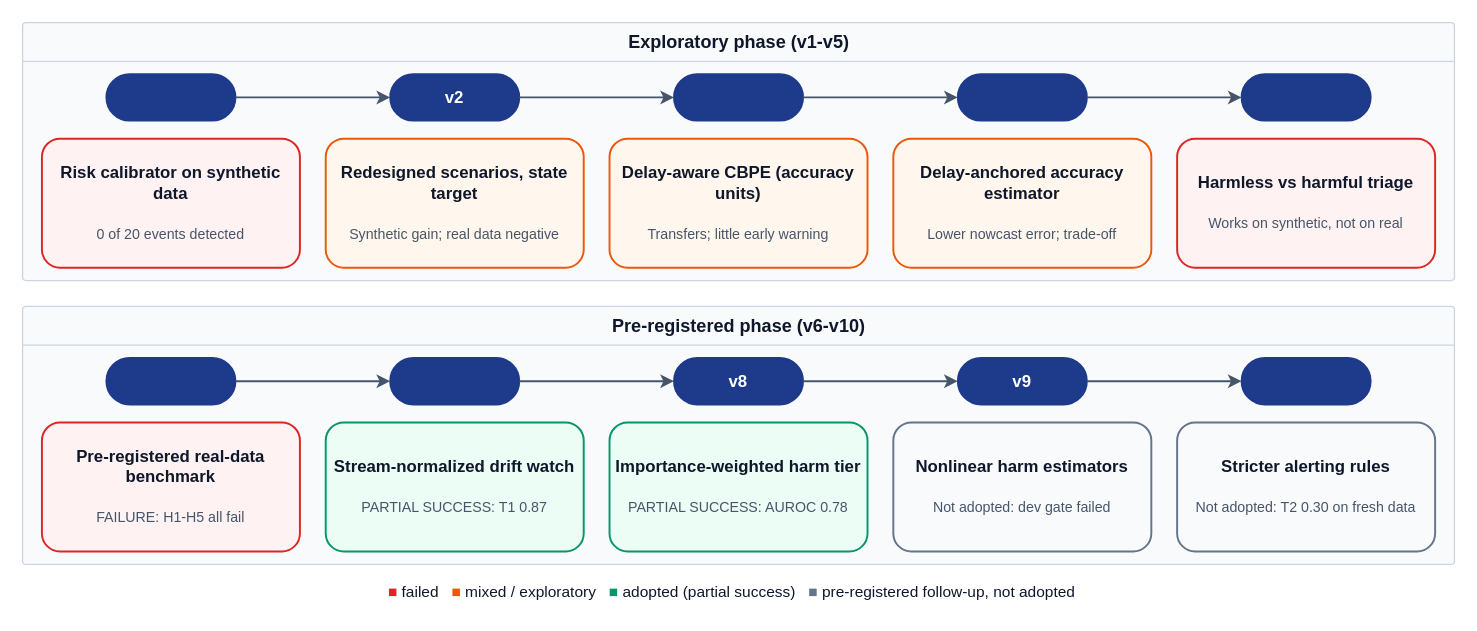
The diagram is 1477 pixels wide and 631 high, and some of its shapes have lost their labels. Here are the shapes that lost their labels. From the top down, the box of each, then its label:
(105, 73, 236, 121): v1
(672, 73, 803, 121): v3
(956, 73, 1087, 121): v4
(1240, 73, 1371, 121): v5
(105, 356, 236, 405): v6
(389, 356, 520, 405): v7
(1240, 356, 1371, 405): v10
